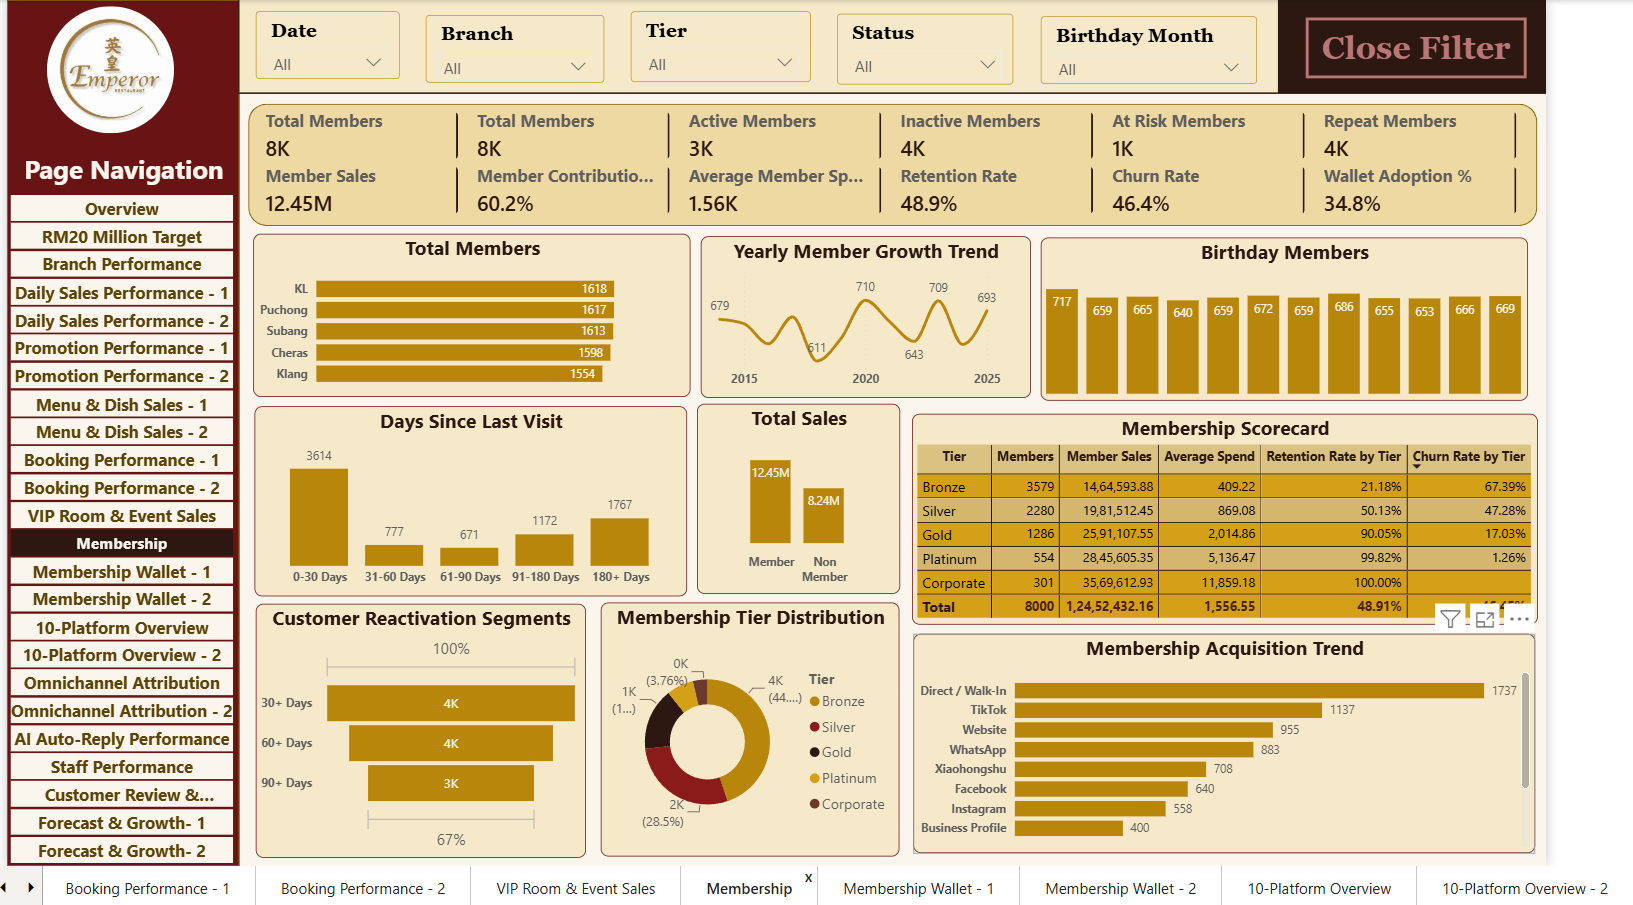

The page's visual inventory and layout, read from the dashboard file:
{"tool":"powerbi","page":{"name":"Membership","canvas":[1600,900],"ordinal":12},"visuals":[{"type":"lineChart","title":"Yearly Member Growth Trend","fields":{"Category":["Dim_Customer.Join Year"],"Y":["__DAX_Measures.Total Members 9"]},"box":[720.4,245.3,343.1,168.1],"z":0},{"type":"donutChart","title":"Membership Tier Distribution","fields":{"Category":["Dim_Customer.Tier"],"Y":["__DAX_Measures.Total Members 9"]},"box":[617.5,626.1,310.5,264.2],"z":1000},{"type":"clusteredColumnChart","title":"Total Sales","fields":{"Category":["Fact_Sales.Member Types"],"Y":["__DAX_Measures.Total Sales"]},"box":[717,420.2,211,197.3],"z":2000},{"type":"barChart","title":"Total Members","fields":{"Category":["Dim_Branch.BranchName"],"Y":["__DAX_Measures.Member Count by Branch"]},"box":[255.6,243.6,454.5,169.8],"z":3000},{"type":"columnChart","title":"Birthday Members","fields":{"Category":["Dim_Customer.Birthday Month Name"],"Y":["__DAX_Measures.Member Count"]},"box":[1073.8,247,506,169.8],"z":4000},{"type":"clusteredColumnChart","title":"Days Since Last Visit","fields":{"Category":["Dim_Customer.Visit Recency Bucket"],"Y":["__DAX_Measures.Member Count"]},"box":[257.3,422,449.4,197.3],"z":5000},{"type":"funnel","title":"Customer Reactivation Segments","fields":{"Category":["Reactivation Segments.Segment"],"Y":["__DAX_Measures.Reactivation Members"]},"box":[259,627.8,343.1,264.2],"z":6000},{"type":"pivotTable","title":"Membership Scorecard","fields":{"Rows":["Dim_Customer.Tier"],"Values":["__DAX_Measures.Members","__DAX_Measures.Member Sales","__DAX_Measures.Average Spend","__DAX_Measures.Retention Rate by Tier","__DAX_Measures.Churn Rate by Tier"]},"box":[940,430.5,650.1,219.6],"z":7000},{"type":"clusteredBarChart","title":"Membership Acquisition Trend","fields":{"Category":["Dim_Platform.PlatformName"],"Y":["__DAX_Measures.Member Count by Platform"]},"box":[941.7,658.7,646.7,228.1],"z":8000},{"type":"shape","box":[0,0,241.6,900.2],"z":9000},{"type":"shape","box":[250.4,108.1,1339.6,126.9],"z":10000},{"type":"cardVisual","fields":{"Data":["__DAX_Measures.Total Members","__DAX_Measures.Total Members 9","__DAX_Measures.Active Members","__DAX_Measures.Inactive Members","__DAX_Measures.At Risk Members","__DAX_Measures.Repeat Members","__DAX_Measures.Member Sales","__DAX_Measures.Member Contribution %","__DAX_Measures.Average Member Spend","__DAX_Measures.Retention Rate","__DAX_Measures.Churn Rate","__DAX_Measures.Wallet Adoption %"]},"box":[245.3,104.6,1334.5,128.6],"z":11000},{"type":"textbox","box":[241,0,1359,97.4],"z":12000},{"type":"shape","box":[241.9,0,1078.9,96.1],"z":13000},{"type":"actionButton","title":"Close Filter","box":[1350.2,18.1,229.6,63.3],"z":14000},{"type":"slicer","fields":{"Values":["Dim_Date.Date"]},"box":[259,12,149.2,70.3],"z":16000},{"type":"slicer","fields":{"Values":["Dim_Branch.BranchName"]},"box":[435.7,15.4,185.2,70.3],"z":17000},{"type":"slicer","fields":{"Values":["Dim_Customer.Tier"]},"box":[648.4,11.1,187,73.8],"z":18000},{"type":"slicer","fields":{"Values":["Dim_Customer.BirthdayMonth"]},"box":[1073.8,16.3,224.7,70.3],"z":19000},{"type":"slicer","fields":{"Values":["Dim_Customer.Status"]},"box":[862.8,13.7,183.5,73.8],"z":20000},{"type":"image","box":[41.9,6.2,131.9,131.9],"z":23000},{"type":"pageNavigator","box":[4.4,202.3,231.1,697.7],"z":23001},{"type":"textbox","box":[0,152.6,242.7,46.5],"z":23002}]}

Visuals, with their boxes on the page's 1600x900 design canvas (x1, y1, x2, y2). These are canvas units, not pixel positions in the 1633x905 screenshot, which may show the page scaled, cropped or inside an application window:
"Yearly Member Growth Trend" lineChart: [720,245,1064,413]
"Membership Tier Distribution" donutChart: [618,626,928,890]
"Total Sales" clusteredColumnChart: [717,420,928,618]
"Total Members" barChart: [256,244,710,413]
"Birthday Members" columnChart: [1074,247,1580,417]
"Days Since Last Visit" clusteredColumnChart: [257,422,707,619]
"Customer Reactivation Segments" funnel: [259,628,602,892]
"Membership Scorecard" pivotTable: [940,430,1590,650]
"Membership Acquisition Trend" clusteredBarChart: [942,659,1588,887]
shape: [0,0,242,900]
shape: [250,108,1590,235]
cardVisual - __DAX_Measures.Total Members x __DAX_Measures.Total Members 9: [245,105,1580,233]
textbox: [241,0,1600,97]
shape: [242,0,1321,96]
"Close Filter" actionButton: [1350,18,1580,81]
slicer - Dim_Date.Date: [259,12,408,82]
slicer - Dim_Branch.BranchName: [436,15,621,86]
slicer - Dim_Customer.Tier: [648,11,835,85]
slicer - Dim_Customer.BirthdayMonth: [1074,16,1298,87]
slicer - Dim_Customer.Status: [863,14,1046,88]
image: [42,6,174,138]
pageNavigator: [4,202,236,900]
textbox: [0,153,243,199]
